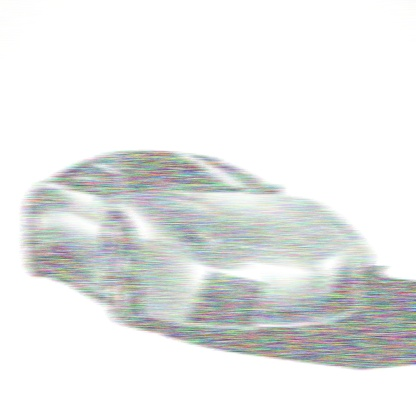Vehicle: (25, 151, 373, 333)
